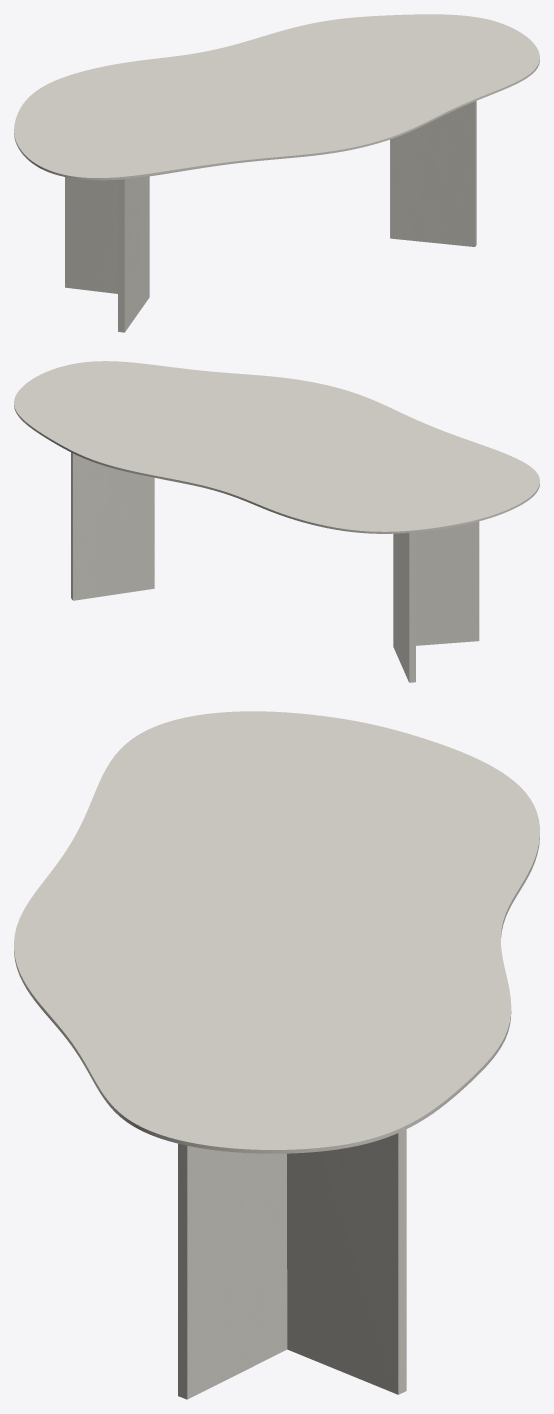
The model's file is pale_toplast_facet_valleyv.glb.
3 views of the same model, one above another, from view 1: azimuth 30°, elevation 25°; view 2: azimuth 150°, elevation 25°; view 3: azimuth 270°, elevation 25° (orthographic). The views are drawn at different scales.
Visible parts, largest first — view 1: facet_toplast, valleyv; view 2: facet_toplast, valleyv; view 3: facet_toplast, valleyv.
Boxes of the visible parts, x1,y1,x2,y2 form: facet_toplast: (14,14,539,180); valleyv: (65,101,476,332); facet_toplast: (14,361,539,533); valleyv: (71,452,479,682); facet_toplast: (14,711,539,1153); valleyv: (178,1129,406,1399).
Size of the model in its own units: 7.5 by 2.5 by 3.8.
Materials: 1 (1 with a texture image).
